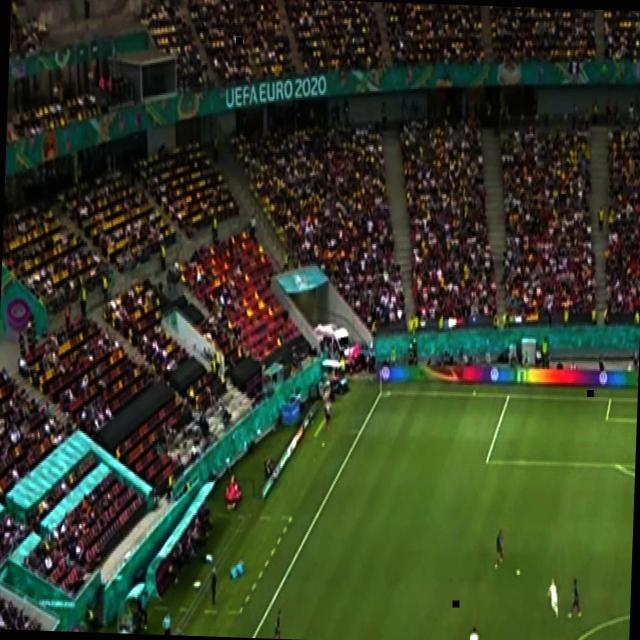ball: (321, 438, 326, 448), (516, 568, 520, 576)
player-white: (566, 574, 584, 621), (546, 574, 560, 620), (492, 526, 506, 570), (270, 605, 283, 639), (159, 609, 172, 635), (464, 622, 480, 640)
